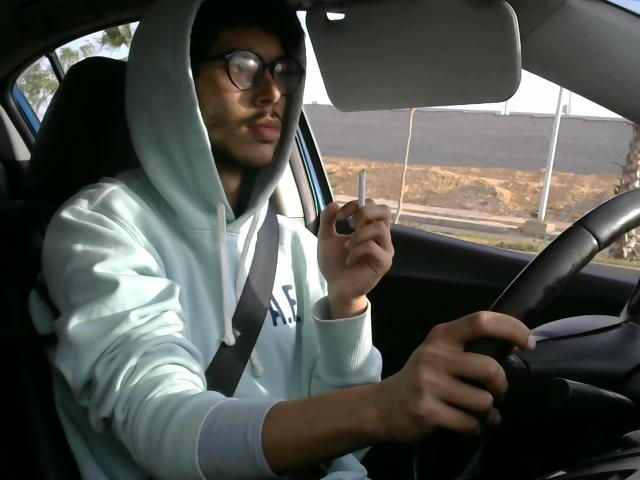Smoking: (348, 162, 372, 238)
